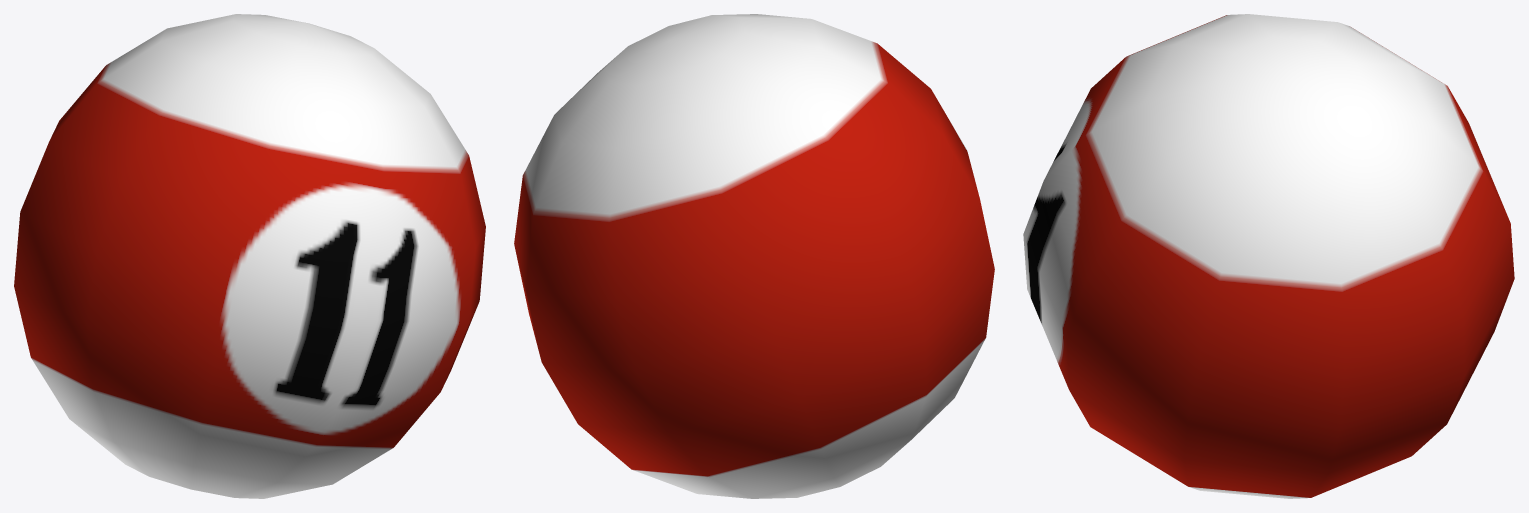
Rendered from Ball11.gltf.
3 renders of one model, left to right at view 1: azimuth 30°, elevation 25°; view 2: azimuth 150°, elevation 25°; view 3: azimuth 270°, elevation 25°, orthographic.
Visible parts, largest first — view 1: Ball11_Material_#38_0; view 2: Ball11_Material_#38_0; view 3: Ball11_Material_#38_0.
Part boxes in pixels (x1=…): Ball11_Material_#38_0: x1=14, y1=14, x2=485, y2=498; Ball11_Material_#38_0: x1=514, y1=14, x2=994, y2=498; Ball11_Material_#38_0: x1=1023, y1=14, x2=1514, y2=498.
Bounding box in the file's own units: 5.56 × 5.78 × 5.75.
1 material, 1 textured.
